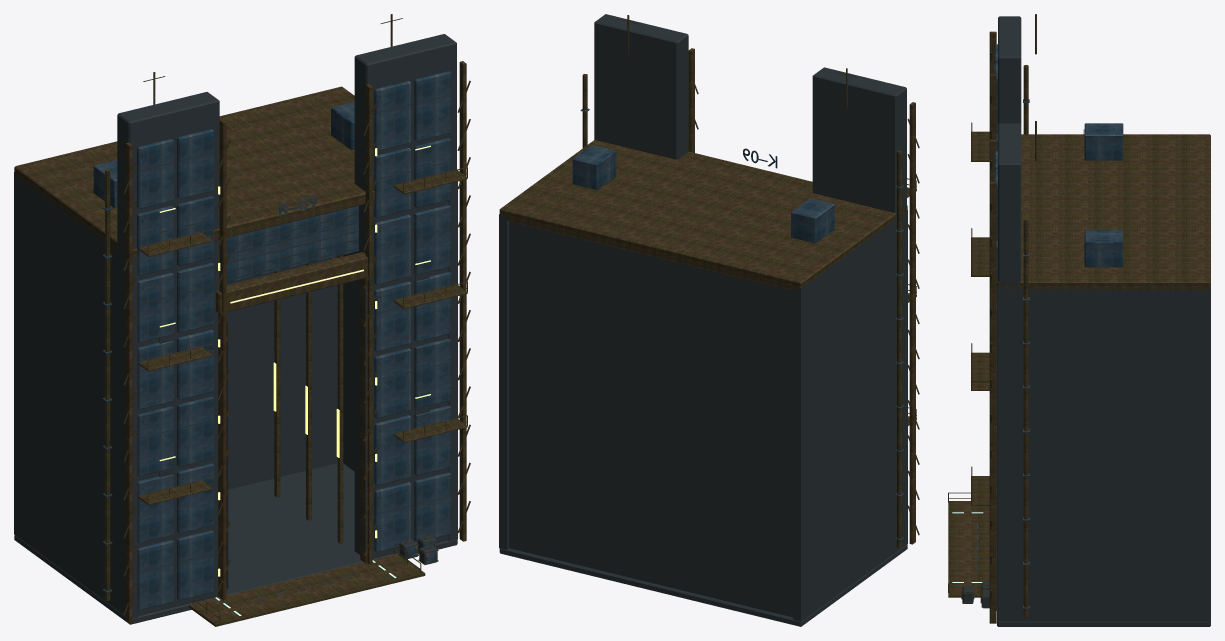
The model's file is Hangar.fbx.
3 renders of one model, left to right at view 1: azimuth 30°, elevation 25°; view 2: azimuth 150°, elevation 25°; view 3: azimuth 270°, elevation 25°, orthographic. The views are drawn at different scales.
Visible parts, largest first — view 1: Hangar.001; view 2: Hangar.001; view 3: Hangar.001.
Part boxes in pixels (x1,y1,x2,y2): Hangar.001: (14,14,470,626); Hangar.001: (499,14,919,626); Hangar.001: (948,14,1210,626).
Bounding box in the file's own units: 38.1 × 27.05 × 55.13.
